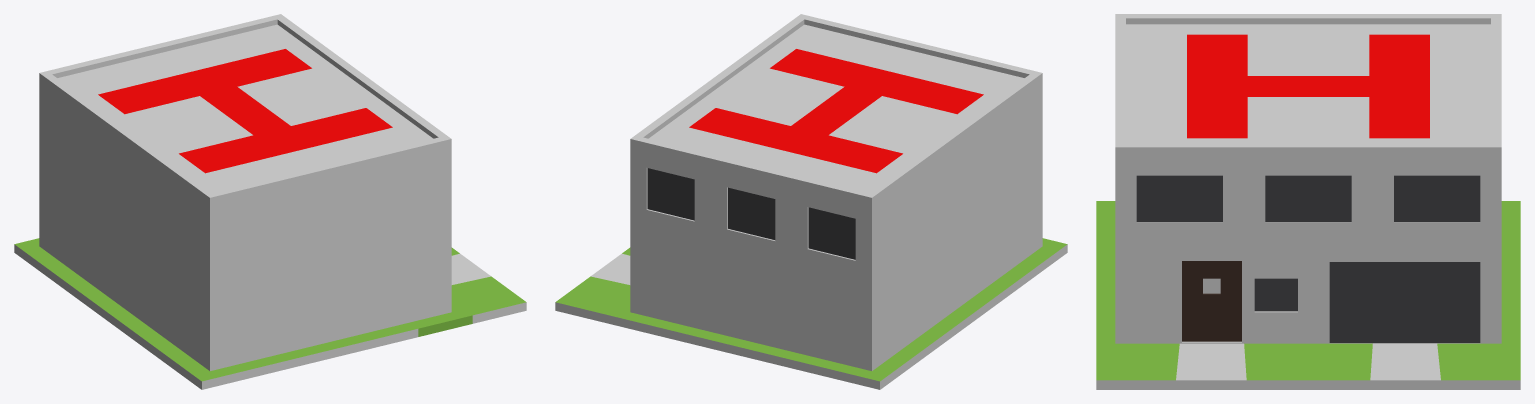
The model's file is hospital.fbx.
3 renders of one model, left to right at view 1: azimuth 30°, elevation 25°; view 2: azimuth 150°, elevation 25°; view 3: azimuth 270°, elevation 25°, orthographic. The views are drawn at different scales.
Parts seen in each view (by area): view 1: hospital; view 2: hospital; view 3: hospital.
Boxes of the visible parts, x1=… form: hospital: x1=14, y1=14, x2=526, y2=389; hospital: x1=555, y1=14, x2=1067, y2=389; hospital: x1=1096, y1=14, x2=1520, y2=389.
Size of the model in its own units: 1000 by 535 by 1000.
